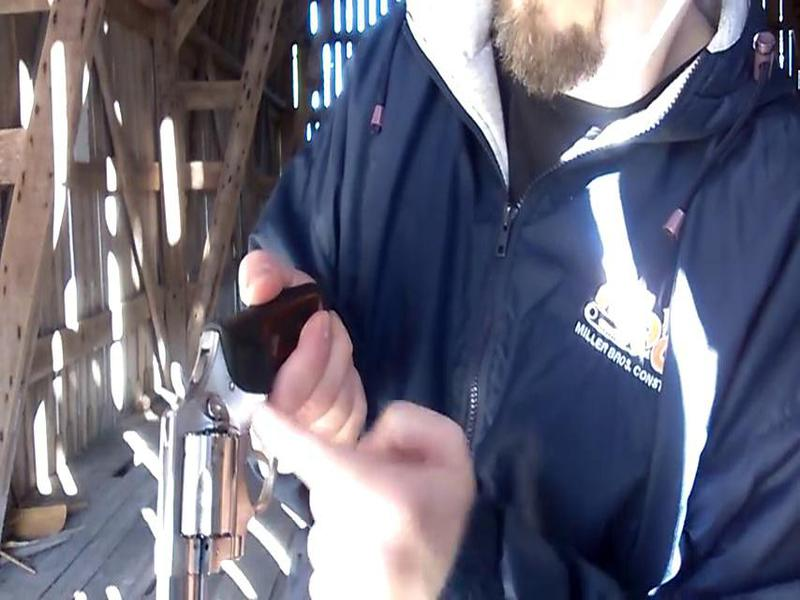Revolver: (140, 275, 335, 600)
